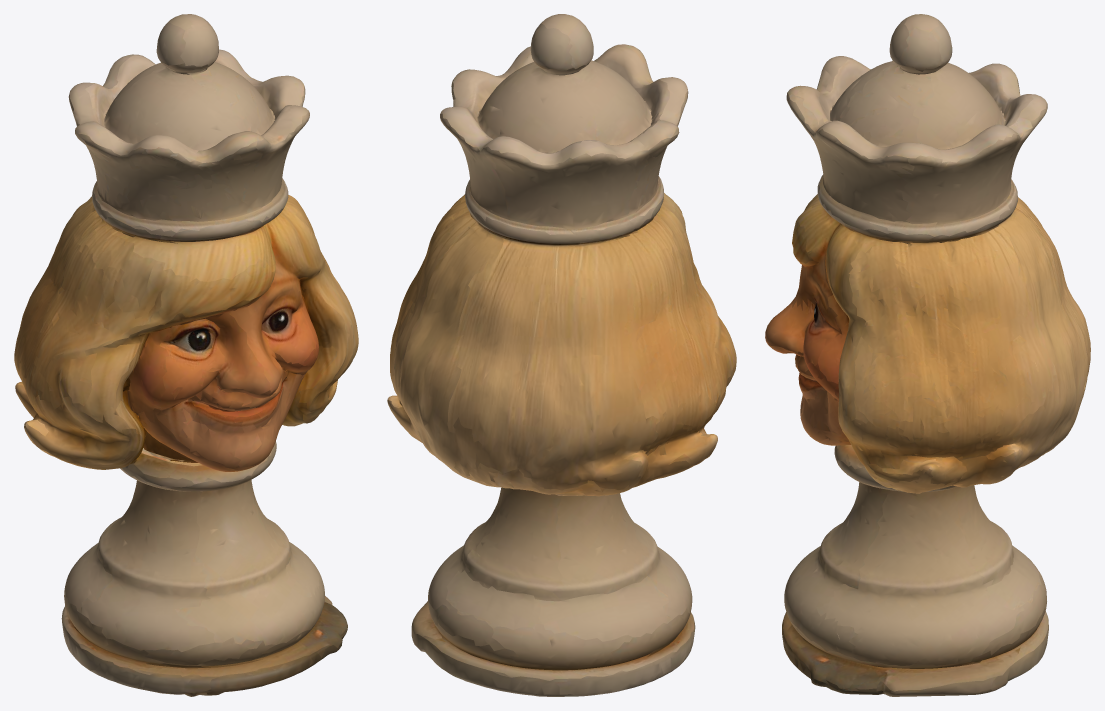
Rendered from fun_queen.glb.
3 renders of one model, left to right at view 1: azimuth 30°, elevation 25°; view 2: azimuth 150°, elevation 25°; view 3: azimuth 270°, elevation 25°, orthographic.
Parts seen in each view (by area): view 1: Object_2; view 2: Object_2; view 3: Object_2.
Part boxes in pixels (x1=…): Object_2: x1=14, y1=14, x2=358, y2=696; Object_2: x1=387, y1=14, x2=736, y2=696; Object_2: x1=765, y1=14, x2=1090, y2=696.
Bounding box in the file's own units: 1.05 × 1.99 × 0.9335.
Materials: 1 (1 with a texture image).
